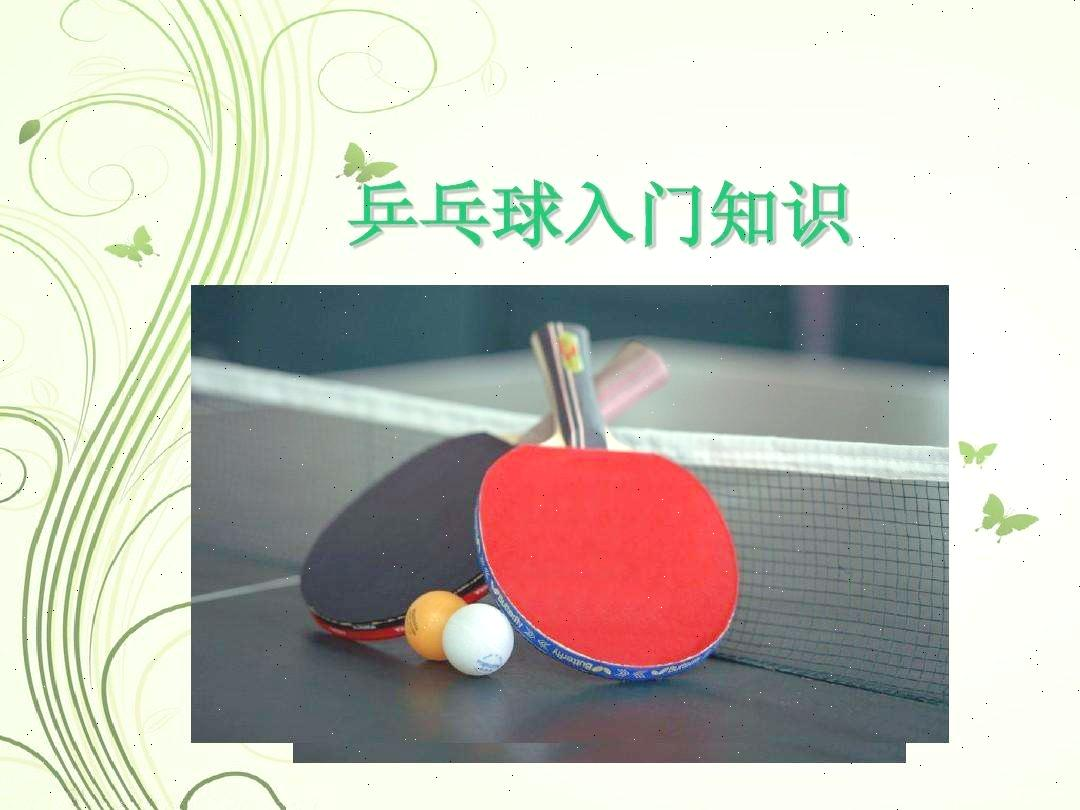ball: (437, 600, 516, 678), (399, 584, 473, 662)
